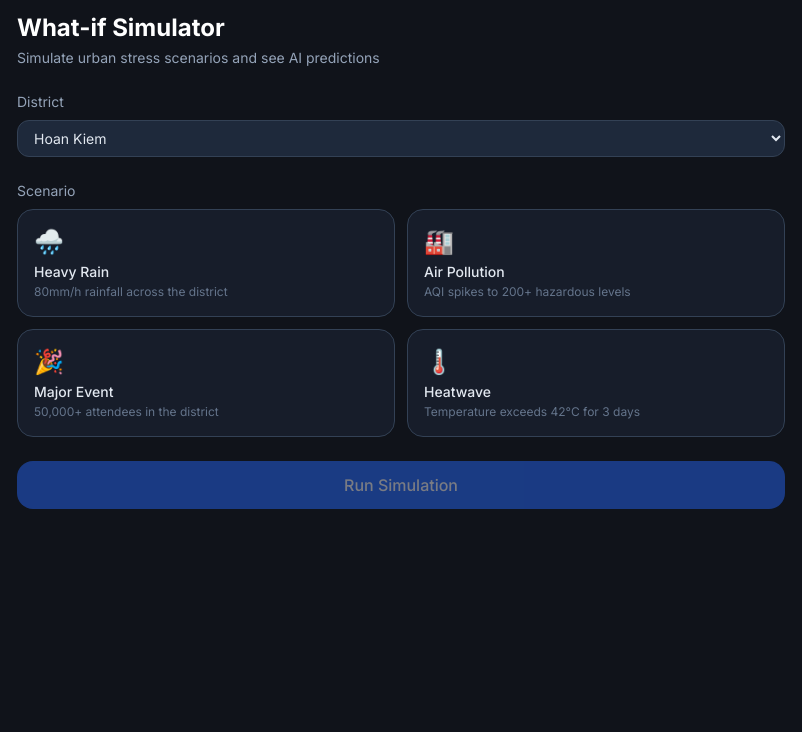
Scenario: SimulatorPage › runs a scenario and renders the decision result
The image size is (802, 732).
Click the text "Heavy Rain" at (72, 272), box [34, 263, 109, 280]
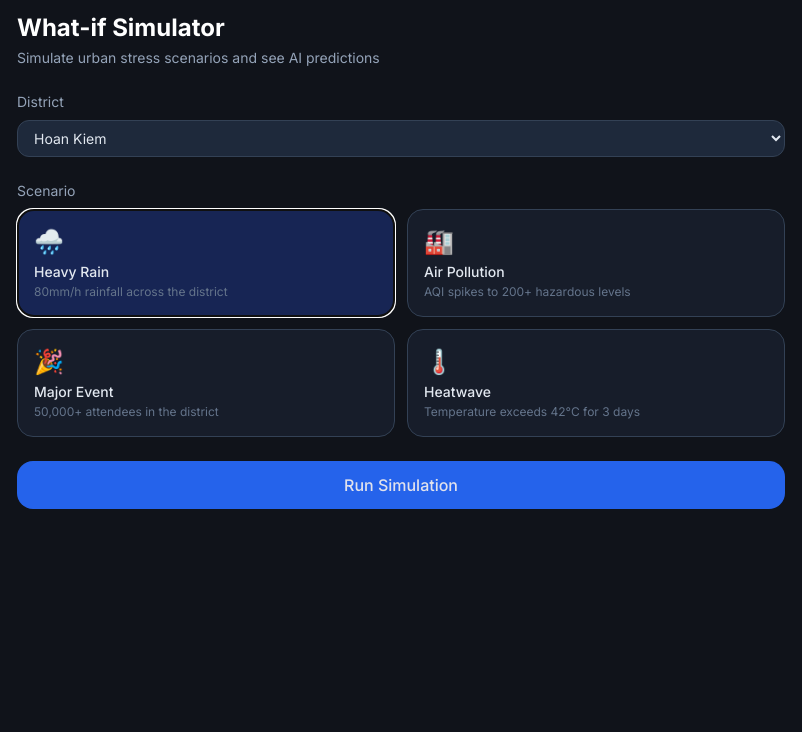
Click the button "Run Simulation" at (401, 485), box [17, 461, 785, 509]
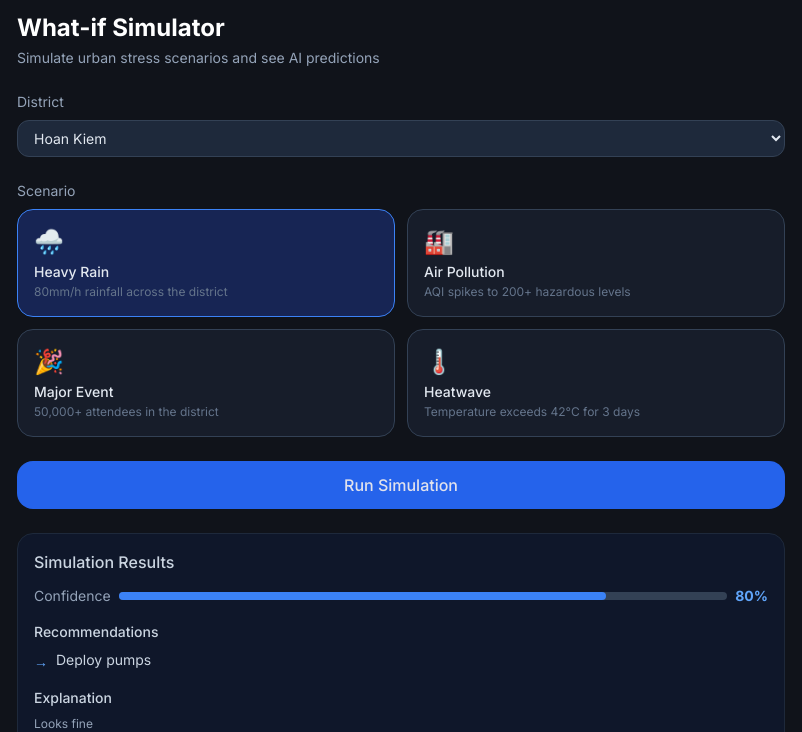
Expected: the list item "Deploy pumps" is shown, [56, 651, 151, 668]
